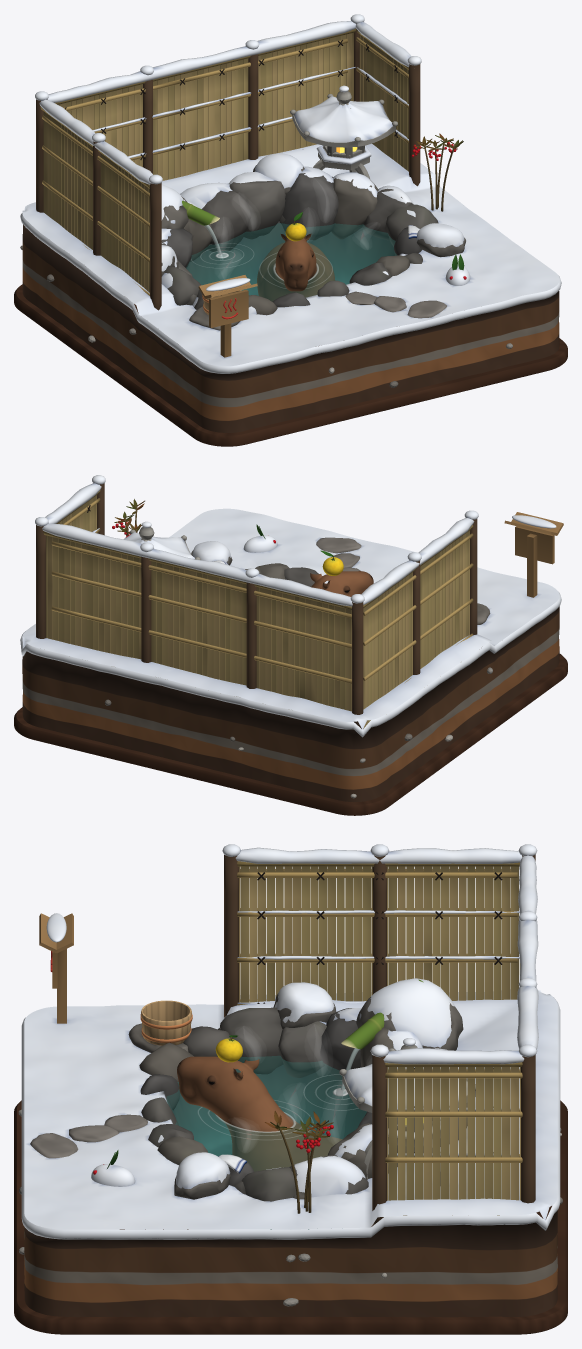
The picture shows the model from 3 angles, top to bottom: view 1: azimuth 30°, elevation 25°; view 2: azimuth 150°, elevation 25°; view 3: azimuth 270°, elevation 25°; orthographic projection. The views are drawn at different scales.
Visible parts, largest first — view 1: Base_SoilCrossSection, Ground_SnowAndTub, BambooFence_Back_Slats, BambooFence_Left_Slats, Base_WalnutBoard, BambooFence_Snow, Onsen_WaterSurface, BambooFence_Posts, Capybara, BambooFence_Right_Slats, StoneLantern_RoofSnow, Rock_Rim_11 (+21 smaller); view 2: Base_SoilCrossSection, BambooFence_Back_Slats, Ground_SnowAndTub, BambooFence_Left_Slats, Base_WalnutBoard, BambooFence_Snow, BambooFence_Posts, BambooFence_Back_Rails, OnsenSign_Wood, BambooFence_Left_Rails, Capybara, BambooFence_Back_TopCap (+6 smaller); view 3: Ground_SnowAndTub, Base_SoilCrossSection, BambooFence_Left_Slats, BambooFence_Right_Slats, Base_WalnutBoard, BambooFence_Snow, Onsen_WaterSurface, BambooFence_Posts, Capybara, BambooFence_Left_Rails, Rock_Spout_Big_Snow, BambooFence_Right_Rails (+29 smaller).
Boxes of the visible parts, left/top/right/bottom form: Base_SoilCrossSection: left=20, top=182, right=561, bottom=432; Ground_SnowAndTub: left=22, top=143, right=559, bottom=366; BambooFence_Back_Slats: left=58, top=33, right=353, bottom=180; BambooFence_Left_Slats: left=43, top=111, right=149, bottom=292; Base_WalnutBoard: left=14, top=284, right=567, bottom=446; BambooFence_Snow: left=35, top=14, right=421, bottom=184; Onsen_WaterSurface: left=186, top=223, right=396, bottom=301; BambooFence_Posts: left=36, top=23, right=420, bottom=310; Capybara: left=257, top=233, right=334, bottom=301; BambooFence_Right_Slats: left=359, top=34, right=408, bottom=171; StoneLantern_RoofSnow: left=294, top=96, right=392, bottom=142; Rock_Rim_11: left=282, top=173, right=338, bottom=240; Base_SoilCrossSection: left=20, top=591, right=561, bottom=802; BambooFence_Back_Slats: left=46, top=535, right=351, bottom=711; Ground_SnowAndTub: left=22, top=508, right=559, bottom=729; BambooFence_Left_Slats: left=363, top=530, right=469, bottom=728; Base_WalnutBoard: left=14, top=654, right=567, bottom=815; BambooFence_Snow: left=35, top=475, right=478, bottom=606; BambooFence_Posts: left=36, top=483, right=477, bottom=728; BambooFence_Back_Rails: left=51, top=541, right=351, bottom=683; OnsenSign_Wood: left=504, top=512, right=563, bottom=597; BambooFence_Left_Rails: left=363, top=533, right=473, bottom=682; Capybara: left=310, top=571, right=373, bottom=596; BambooFence_Back_TopCap: left=43, top=531, right=351, bottom=609; Ground_SnowAndTub: left=24, top=989, right=557, bottom=1229; Base_SoilCrossSection: left=21, top=997, right=560, bottom=1317; BambooFence_Left_Slats: left=239, top=866, right=520, bottom=1002; BambooFence_Right_Slats: left=387, top=1067, right=520, bottom=1215; Base_WalnutBoard: left=14, top=1100, right=567, bottom=1334; BambooFence_Snow: left=222, top=844, right=538, bottom=1156; Onsen_WaterSurface: left=167, top=1056, right=366, bottom=1171; BambooFence_Posts: left=224, top=855, right=535, bottom=1225; Capybara: left=177, top=1056, right=342, bottom=1171; BambooFence_Left_Rails: left=237, top=869, right=517, bottom=1005; Rock_Spout_Big_Snow: left=359, top=978, right=454, bottom=1047; BambooFence_Right_Rails: left=385, top=1069, right=522, bottom=1162.
Bounding box in the file's own units: 1.87 × 1.01 × 1.87.
